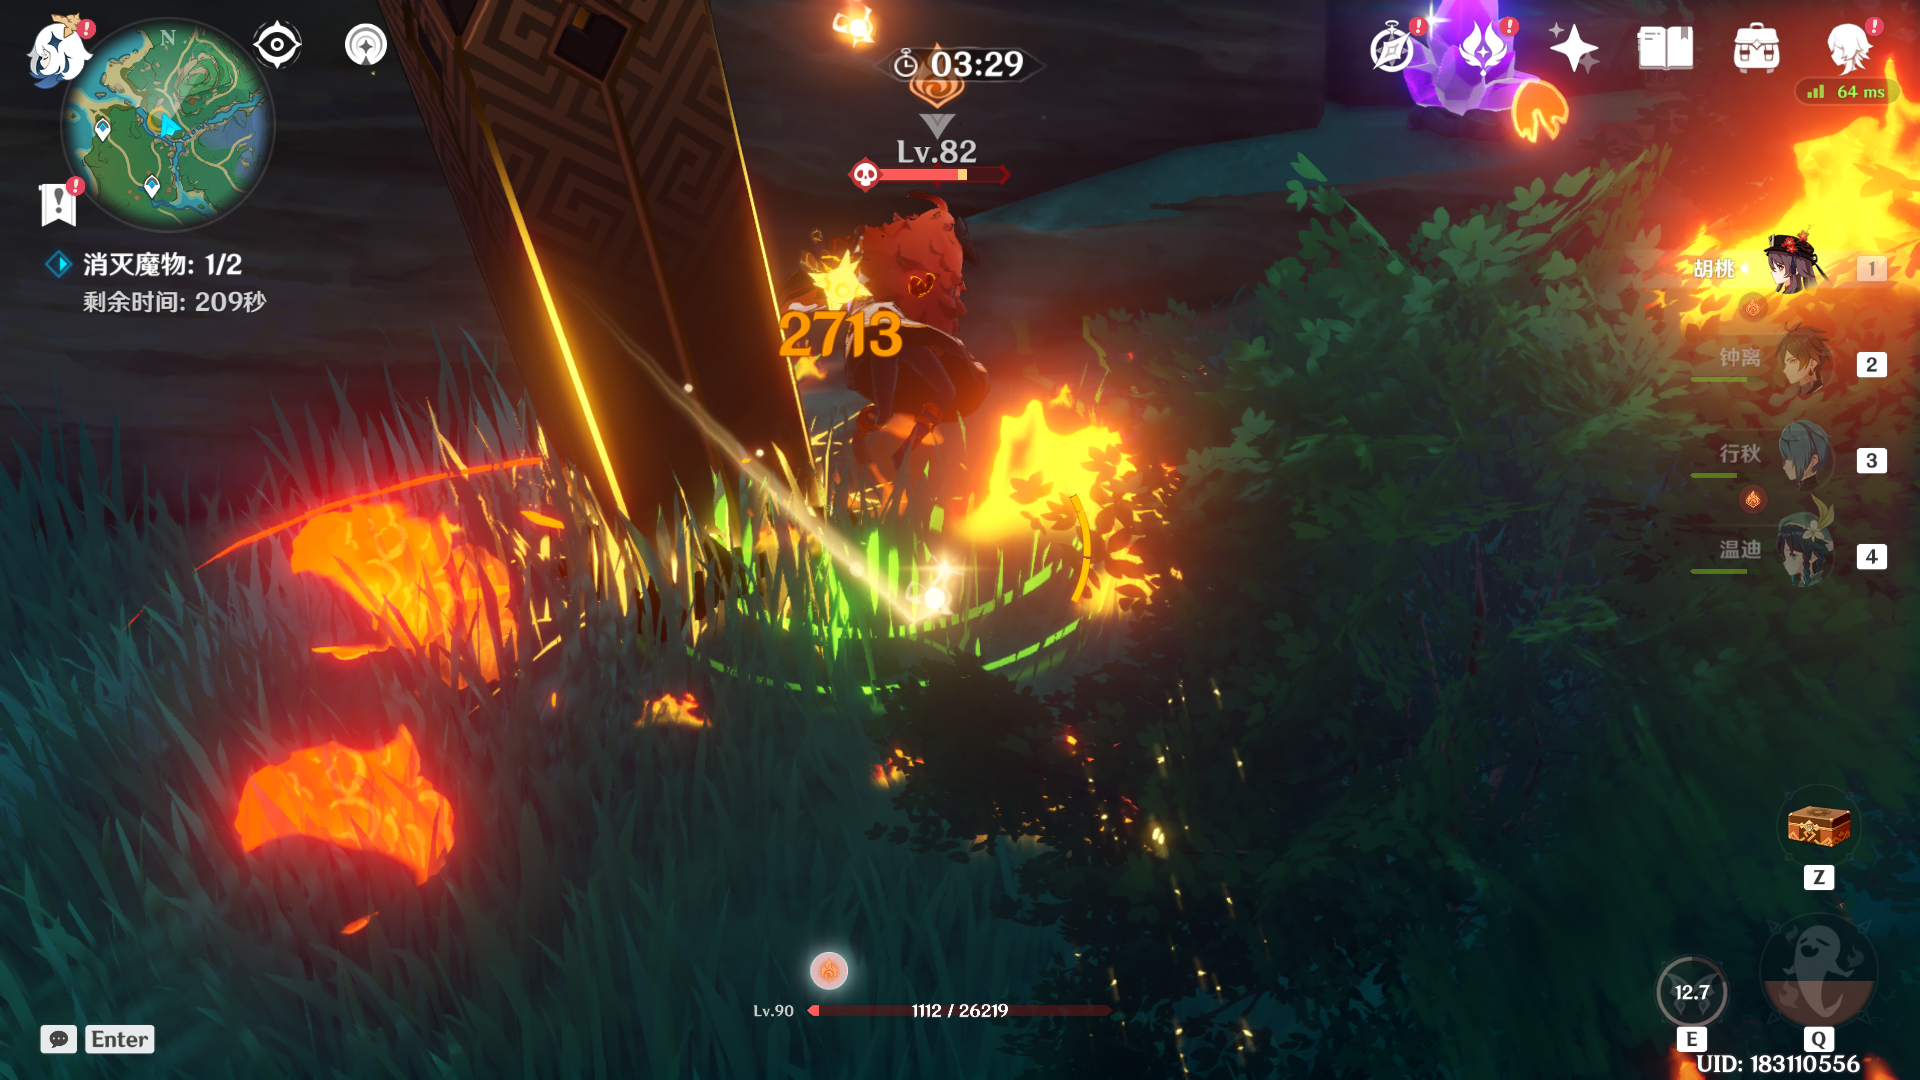caster: (764, 150, 1065, 492)
